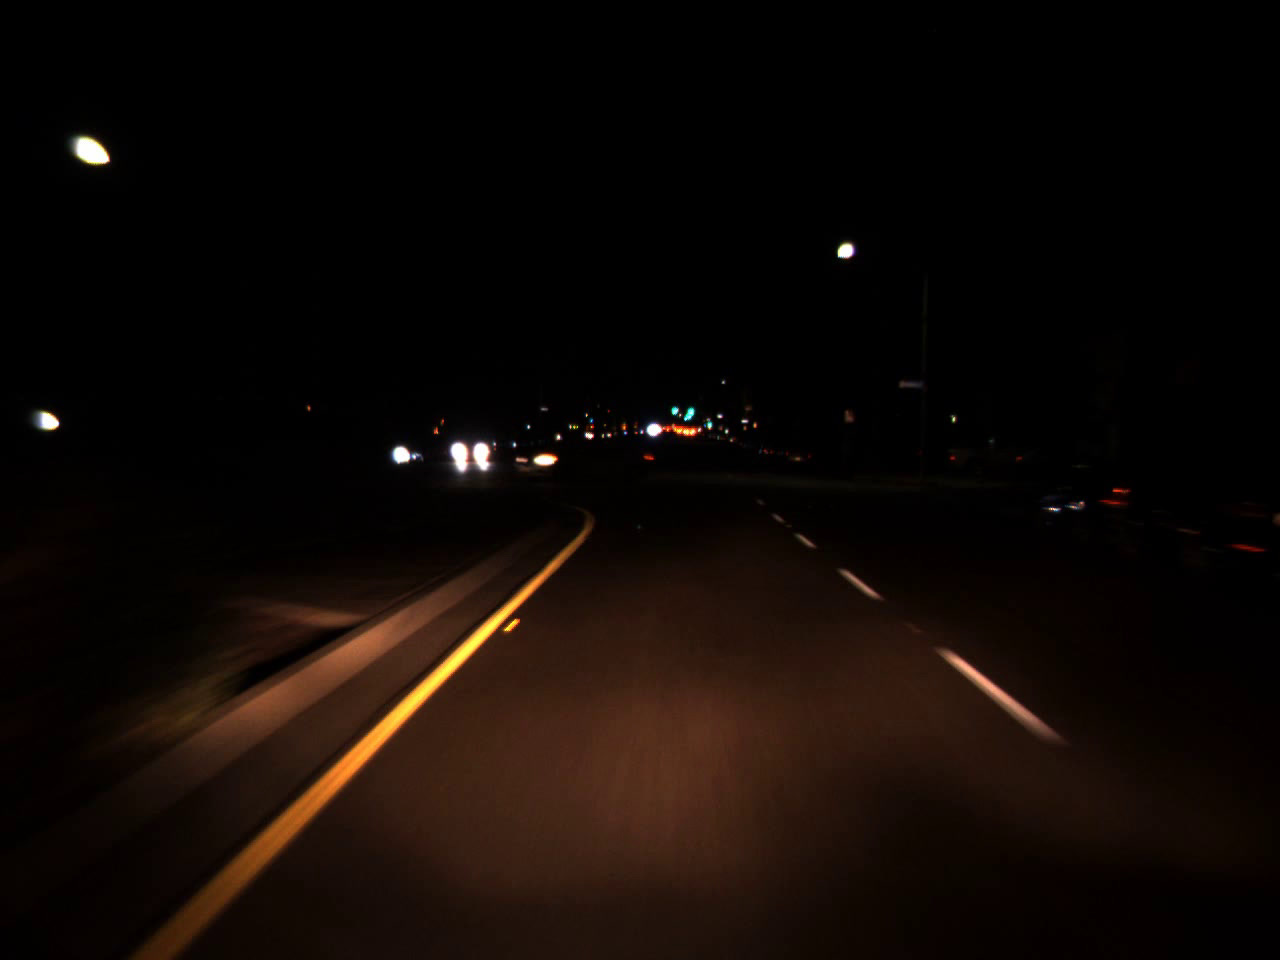go: (683, 396, 697, 419), (669, 399, 679, 417), (703, 414, 713, 429)
